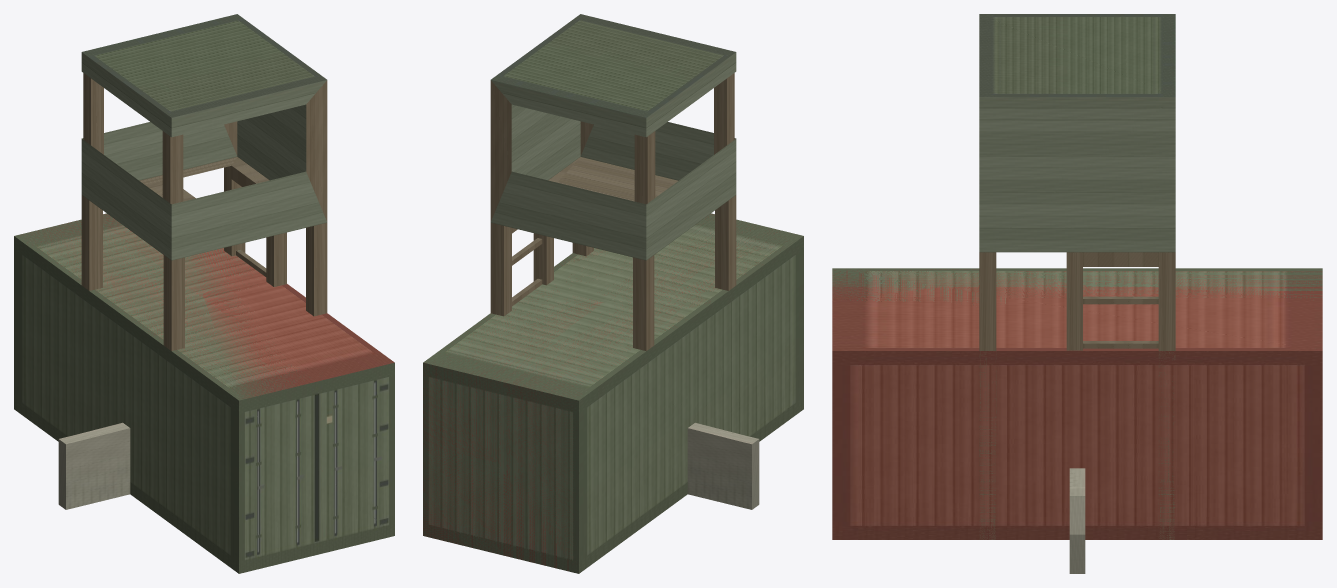
Rendered from small_props.glb.
3 renders of one model, left to right at view 1: azimuth 30°, elevation 25°; view 2: azimuth 150°, elevation 25°; view 3: azimuth 270°, elevation 25°, orthographic. The views are drawn at different scales.
Parts seen in each view (by area): view 1: OliveContainer, TimberTower, OxideContainer, ConcreteBarrierD; view 2: OliveContainer, TimberTower, OxideContainer, ConcreteBarrierD, ConcreteBarrierA; view 3: OxideContainer, TimberTower, OliveContainer, ConcreteBarrierC, ConcreteBarrierA.
Part boxes in pixels (x1,y1,x2,y2): OliveContainer: [14, 213, 394, 573]; TimberTower: [81, 14, 327, 351]; OxideContainer: [27, 214, 394, 398]; ConcreteBarrierD: [58, 422, 130, 509]; OliveContainer: [423, 213, 803, 573]; TimberTower: [490, 14, 736, 351]; OxideContainer: [423, 214, 776, 570]; ConcreteBarrierD: [687, 422, 759, 509]; ConcreteBarrierA: [736, 435, 759, 507]; OxideContainer: [832, 269, 1322, 539]; TimberTower: [979, 14, 1175, 539]; OliveContainer: [832, 268, 1322, 304]; ConcreteBarrierC: [1069, 488, 1085, 573]; ConcreteBarrierA: [1069, 468, 1085, 573].
Bounding box in the file's own units: 4.45 × 6.08 × 6.1.
Materials: 6 (6 with a texture image).
